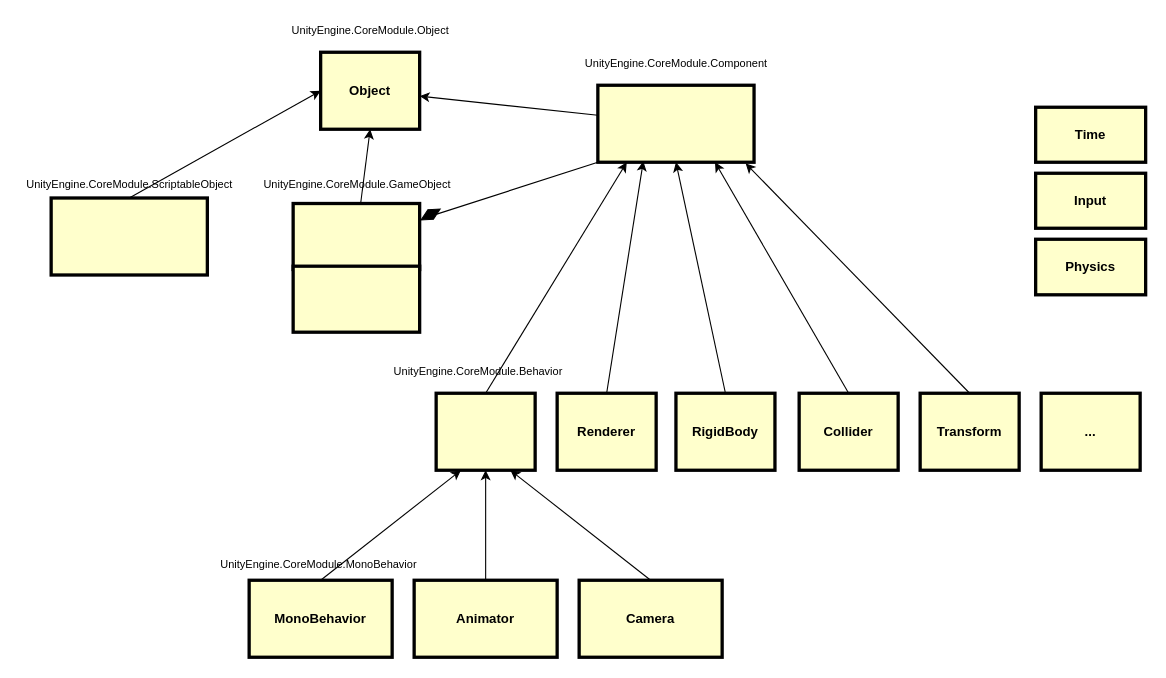
Image size: 1166x678. Some labels were removed from this diagram. Here are the shapes that lost their labels. From the top down, the centre of each, then its label:
the point at 675,123: Component
the point at 128,236: ScriptableObject
the point at 356,236: GameObject
the point at 356,298: AddComponent() GetComponent() GetComponents()
the point at 485,431: Behavior
